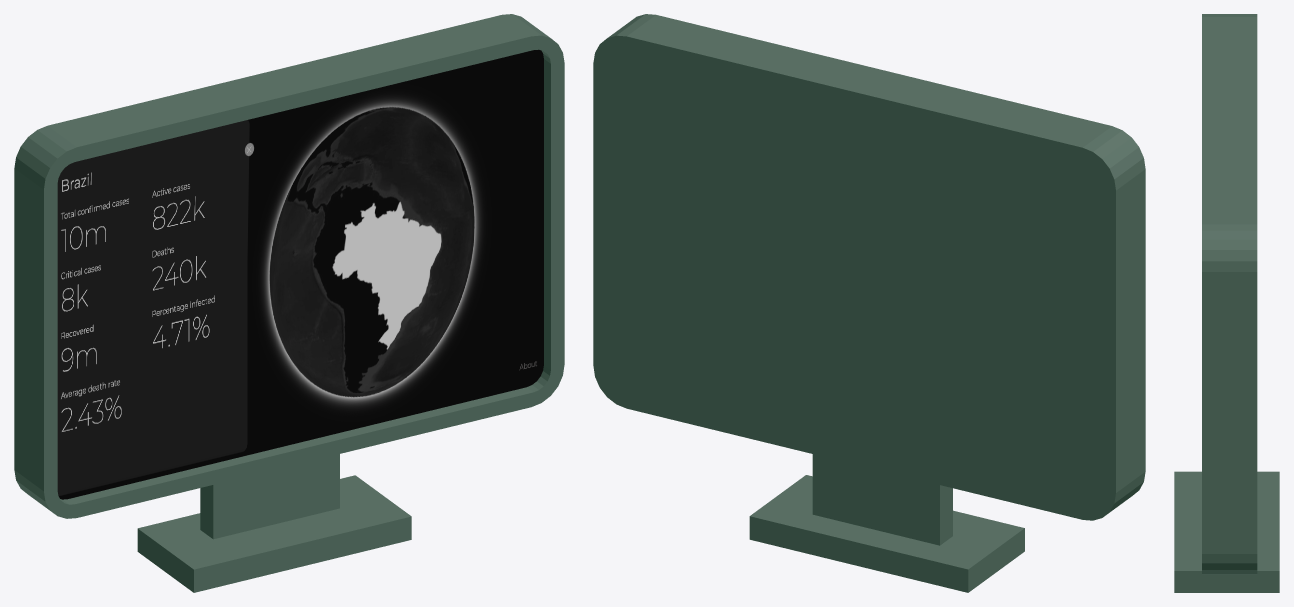
Rendered from covid-screen2.glb.
3 renders of one model, left to right at view 1: azimuth 30°, elevation 25°; view 2: azimuth 150°, elevation 25°; view 3: azimuth 270°, elevation 25°, orthographic. The views are drawn at different scales.
Parts seen in each view (by area): view 1: Cube.001; view 2: Cube.001; view 3: Cube.001.
Boxes of the visible parts, <box> form: Cube.001: <box>14,14,564,592</box>; Cube.001: <box>593,14,1145,592</box>; Cube.001: <box>1174,14,1279,592</box>.
Bounding box in the file's own units: 4.58 × 3.87 × 0.8596.
2 materials, 1 textured.
